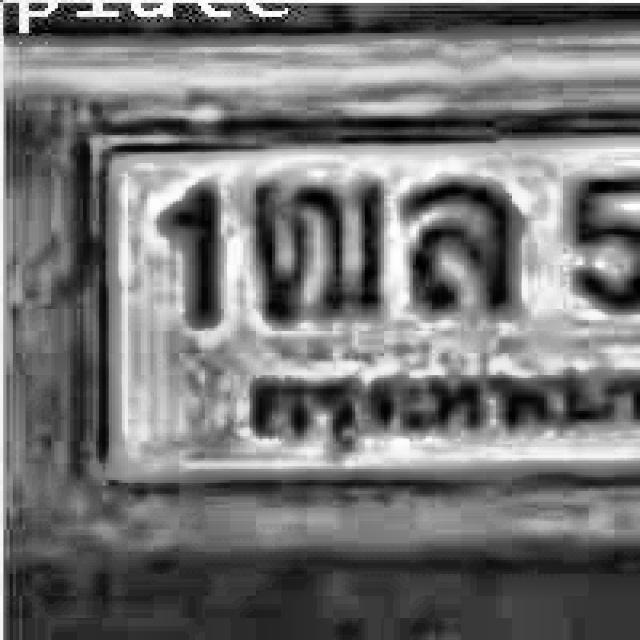license-plate: (85, 110, 640, 504)
